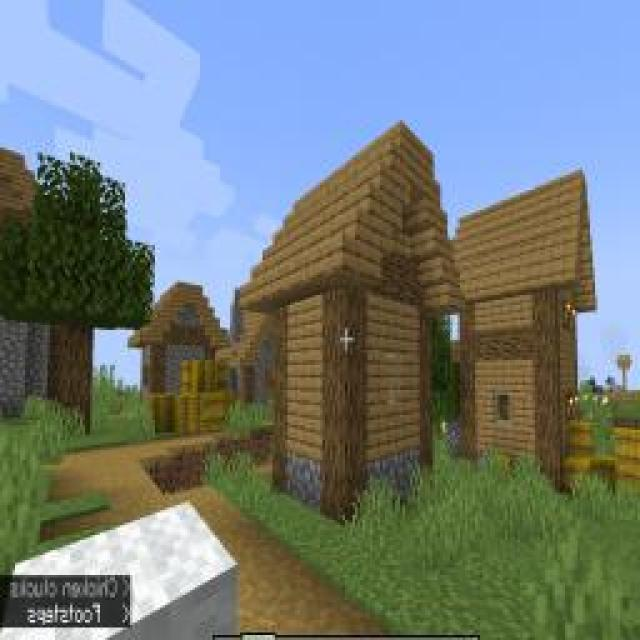Villager: (240, 114, 460, 521), (450, 164, 600, 474), (132, 269, 228, 421)
